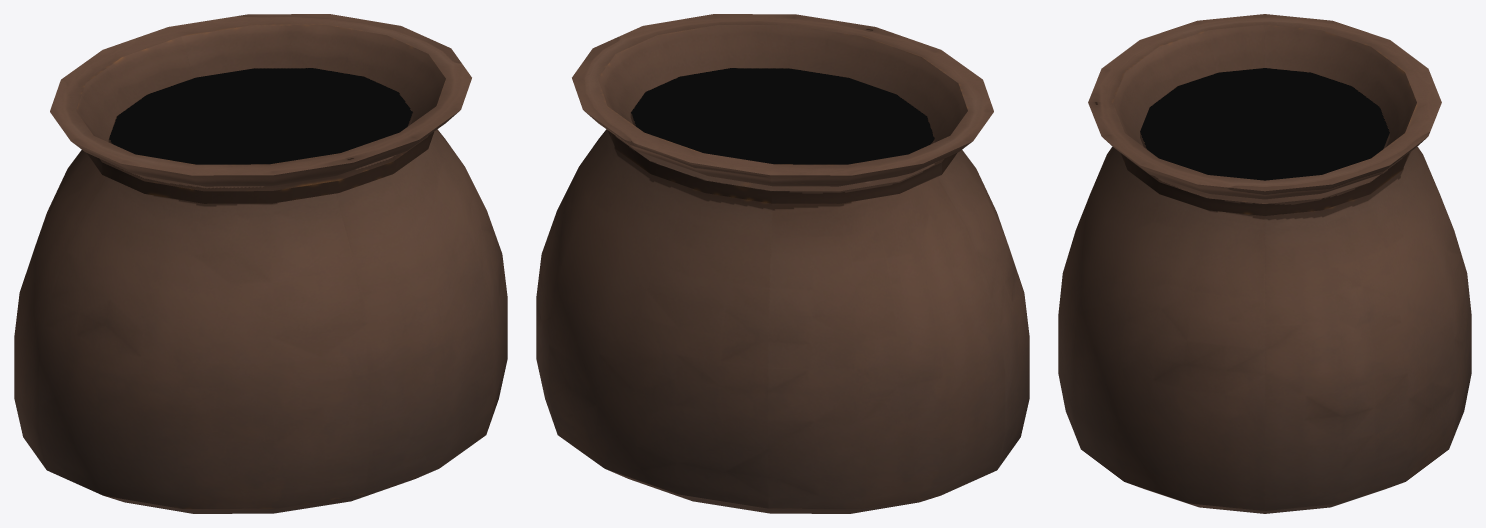
The model's file is coinbagtex.fbx.
The picture shows the model from 3 angles, left to right: view 1: azimuth 30°, elevation 25°; view 2: azimuth 150°, elevation 25°; view 3: azimuth 270°, elevation 25°; orthographic projection. The views are drawn at different scales.
Visible parts, largest first — view 1: coinbagtex; view 2: coinbagtex; view 3: coinbagtex.
Part boxes in pixels (x1,y1,x2,y2): coinbagtex: (14, 14, 507, 513); coinbagtex: (536, 14, 1029, 513); coinbagtex: (1058, 14, 1471, 513).
Size of the model in its own units: 0.8687 by 0.6357 by 0.733.
